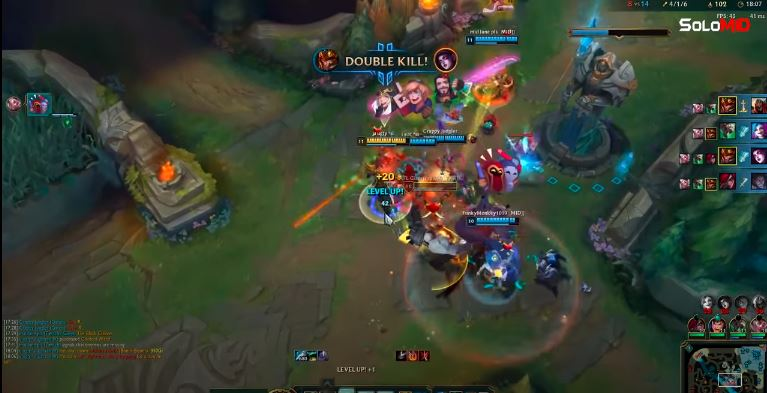bar: (398, 178, 460, 193), (385, 135, 438, 148), (464, 34, 520, 46), (466, 215, 521, 227), (356, 135, 410, 146), (414, 132, 468, 143)
